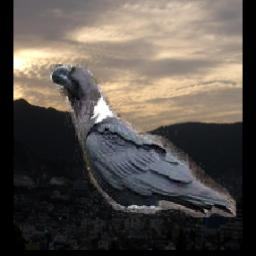Crow: (50, 64, 236, 217)
